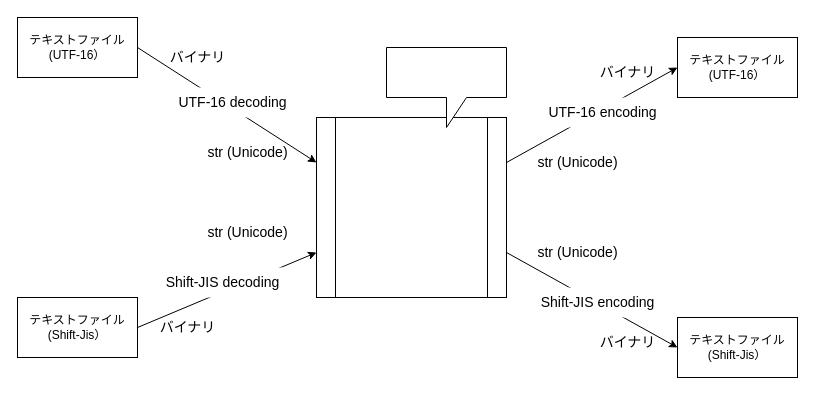
The diagram is 815 pixels wide and 395 high, and some of its shapes have lost their labels. Here are the shapes that lost their labels. From the top down, the centre of each, then its label:
the point at 446,87: only str (Unicode)
the point at 411,207: Python 核心処理 （ビジネスロジック的な）
